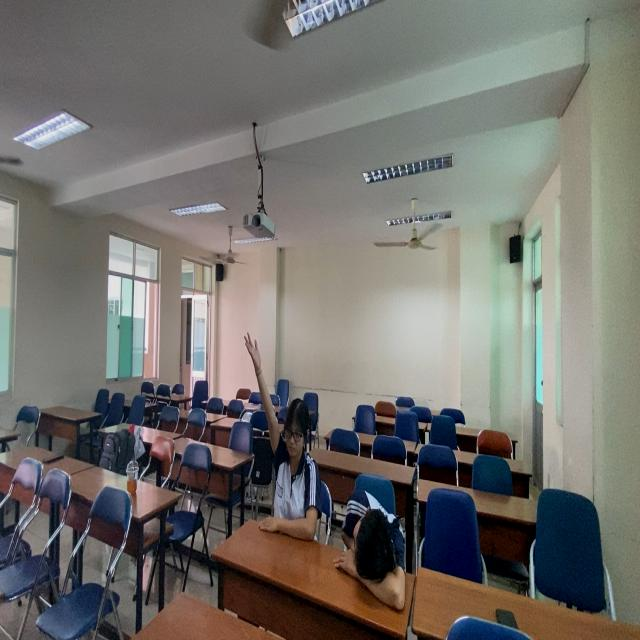raise_hand: (242, 329, 320, 530)
sleep: (339, 487, 414, 615)
